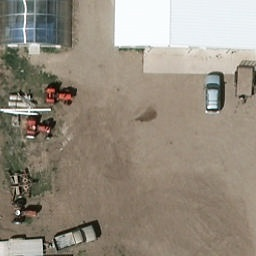car: (204, 73, 222, 117)
pickup: (53, 222, 99, 252)
tractor: (25, 117, 55, 141), (42, 87, 75, 107)
